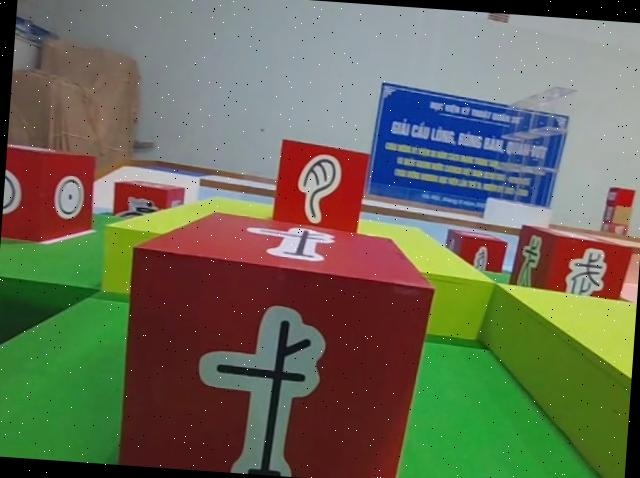R1: (108, 176, 186, 227)
R2 Fake: (507, 221, 636, 306), (269, 134, 373, 236)
R2 Real: (112, 199, 439, 478), (0, 141, 97, 245)
